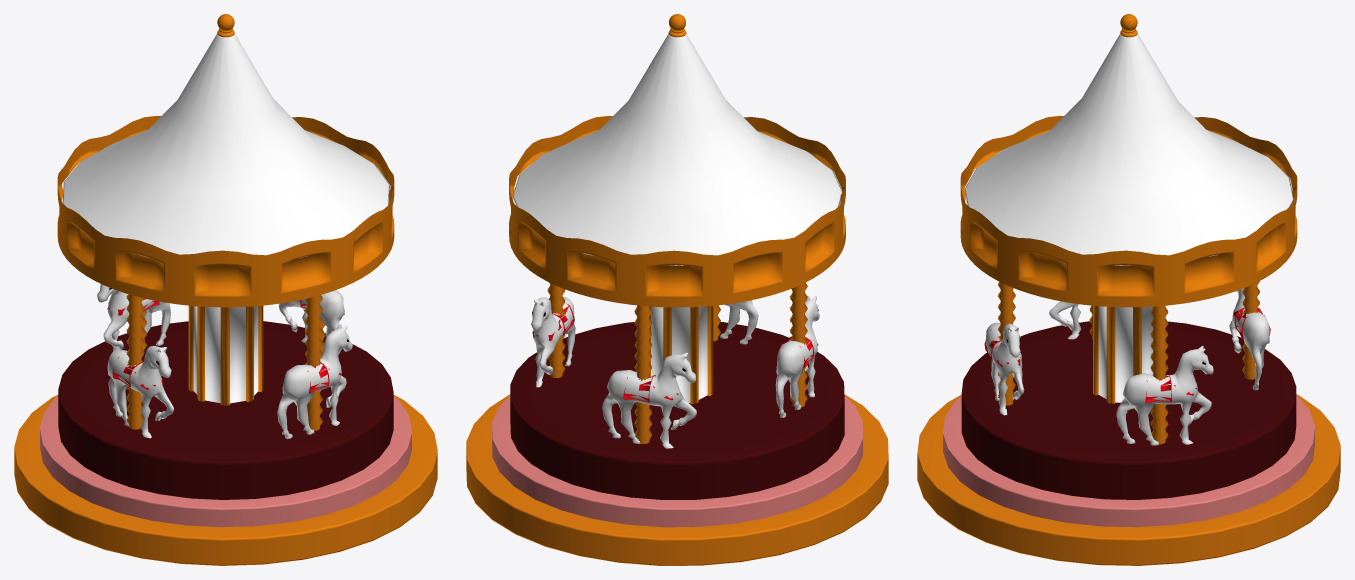
The model's file is carousel.glb.
3 views of the same model, side by side, from view 1: azimuth 30°, elevation 25°; view 2: azimuth 150°, elevation 25°; view 3: azimuth 270°, elevation 25° (orthographic).
Parts seen in each view (by area): view 1: roof, pedestal_3, roof_decor, pedestal_1, pedestal_2, big_column, horse_2, horse_3, horse_4, column_3, column_2, horse_1; view 2: roof, pedestal_3, roof_decor, pedestal_1, pedestal_2, big_column, horse_4, horse_3, horse_1, column_4, column_3, column_1 (+1 smaller); view 3: roof, pedestal_3, roof_decor, pedestal_1, pedestal_2, big_column, horse_1, horse_2, horse_4, column_1, column_2, column_4 (+1 smaller).
Part boxes in pixels (x1,y1,x2,y2): roof: (61,34,390,258); pedestal_3: (58,321,393,499); roof_decor: (57,115,394,307); pedestal_1: (14,395,437,565); pedestal_2: (40,396,411,527); big_column: (188,305,263,405); horse_2: (277,324,352,439); horse_3: (107,346,174,438); horse_4: (97,284,171,351); column_3: (126,294,144,429); column_2: (304,295,322,430); horse_1: (279,290,344,359); roof: (512,34,842,265); pedestal_3: (510,322,844,499); roof_decor: (509,116,845,307); pedestal_1: (466,394,888,565); pedestal_2: (492,395,862,527); big_column: (649,306,713,404); horse_4: (602,352,696,448); horse_3: (775,295,819,417); horse_1: (531,297,575,387); column_4: (634,305,652,443); column_3: (789,282,807,406); column_1: (547,282,565,377); roof: (964,34,1293,265); pedestal_3: (961,321,1296,499); roof_decor: (960,115,1297,307); pedestal_1: (917,394,1340,565); pedestal_2: (943,395,1314,527); big_column: (1093,305,1153,403); horse_1: (1116,346,1213,445); horse_2: (985,322,1024,415); horse_4: (1229,288,1269,390); column_1: (1150,305,1168,444); column_2: (998,282,1015,405); column_4: (1242,281,1259,379).
Size of the model in its own units: 2.99 by 3.6 by 2.99.
